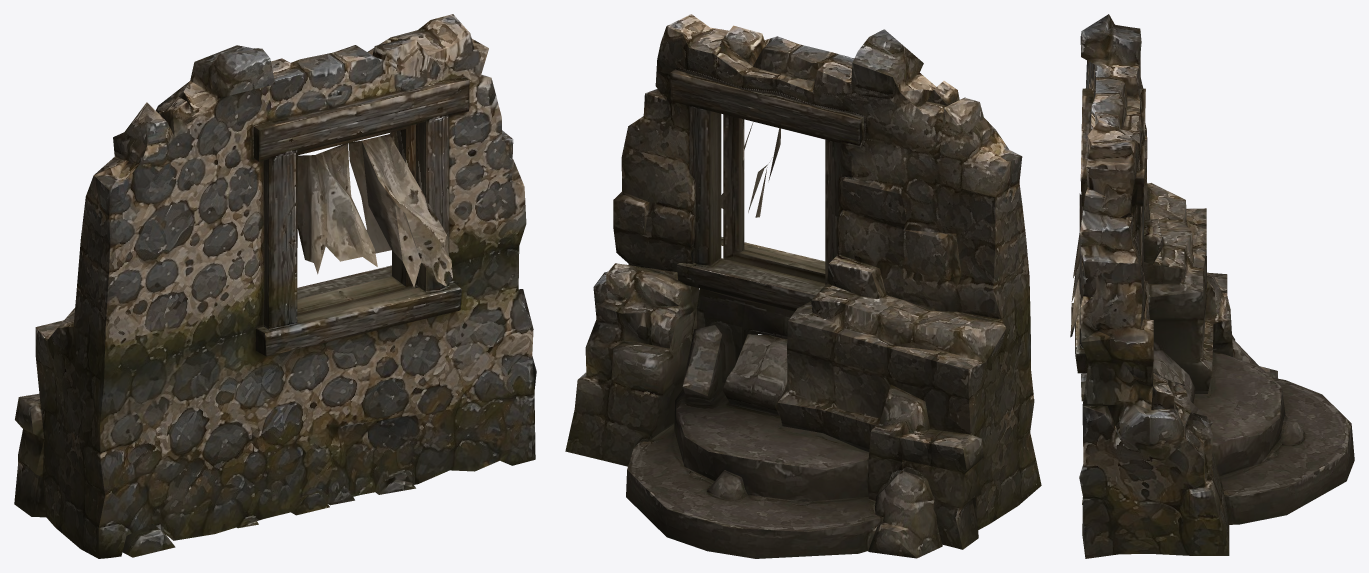
Rendered from act1_extras_v1_flooded_lace_window.glb.
3 renders of one model, left to right at view 1: azimuth 30°, elevation 25°; view 2: azimuth 150°, elevation 25°; view 3: azimuth 270°, elevation 25°, orthographic. The views are drawn at different scales.
Parts seen in each view (by area): view 1: A17_5_flooded_lace_window; view 2: A17_5_flooded_lace_window; view 3: A17_5_flooded_lace_window.
Part boxes in pixels (x1,y1,x2,y2): A17_5_flooded_lace_window: (14,14,536,558); A17_5_flooded_lace_window: (565,14,1041,558); A17_5_flooded_lace_window: (1070,14,1354,558).
Size of the model in its own units: 0.9863 by 0.998 by 0.6206.
1 material, 1 textured.
